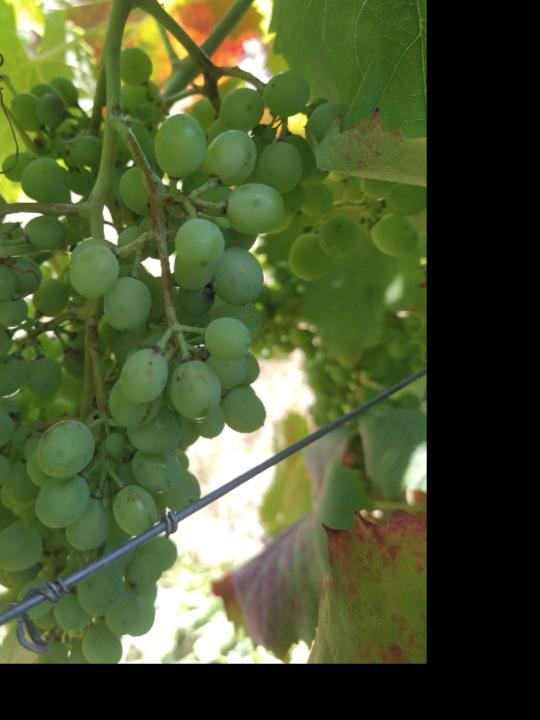grape: (0, 48, 362, 661)
